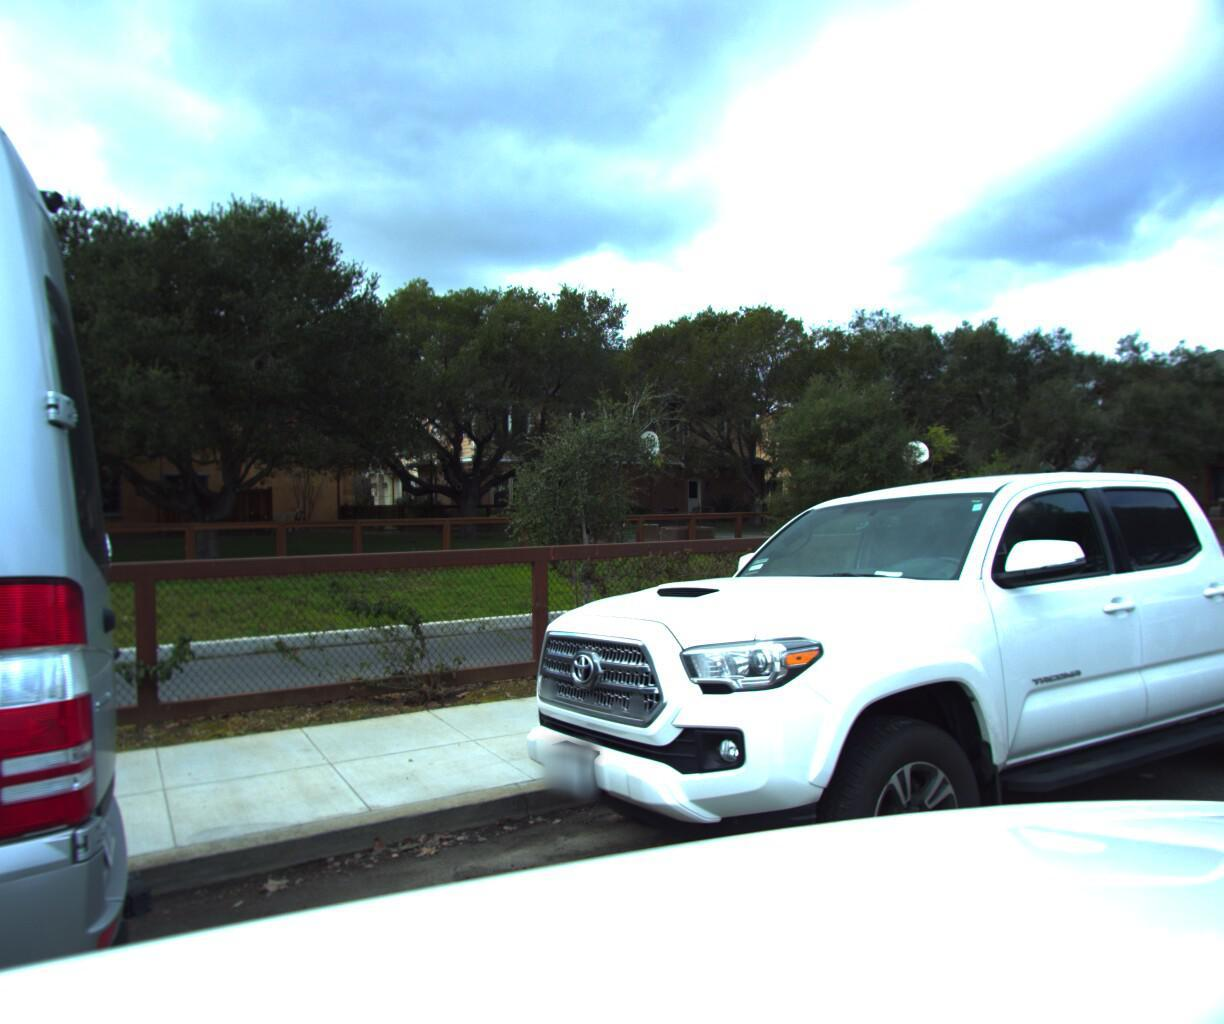car: (471, 469, 1224, 1024), (1162, 460, 1224, 725)
